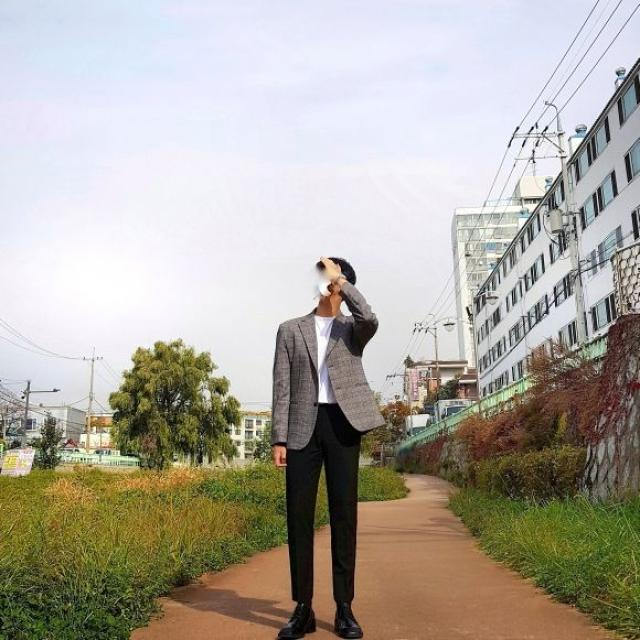blazer: (269, 280, 385, 450)
slacks: (286, 400, 360, 605)
